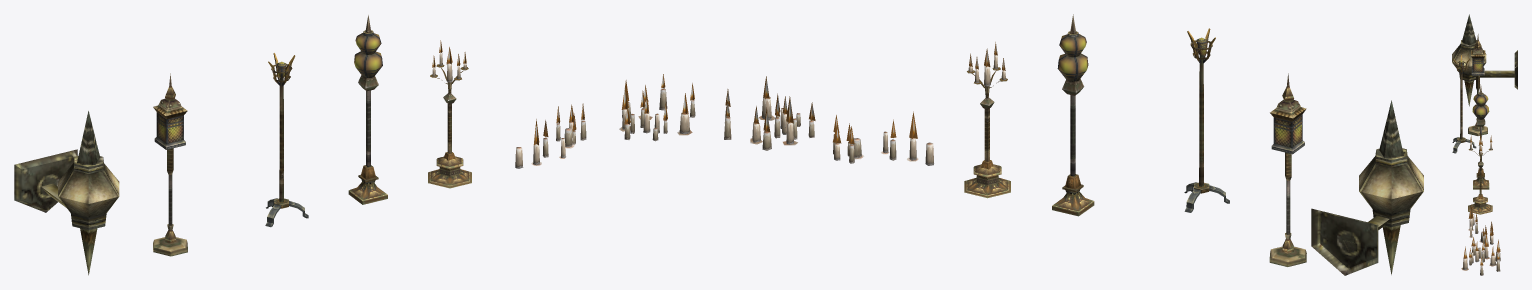
File: d_1009_deco01.FBX
3 views of the same model, side by side, from view 1: azimuth 30°, elevation 25°; view 2: azimuth 150°, elevation 25°; view 3: azimuth 270°, elevation 25° (orthographic). The views are drawn at different scales.
Parts seen in each view (by area): view 1: w_1009_railing52, f_1103_stone18, d_1009_deco10, d_1009_deco09, f_1103_stone17, d_1009_deco07, d_1009_deco08, d_1009_deco07m; view 2: w_1009_railing52, d_1009_deco10, f_1103_stone18, d_1009_deco09, f_1103_stone17, d_1009_deco07, d_1009_deco08, d_1009_deco07m, d_1009_deco08m; view 3: w_1009_railing52, d_1009_deco10, f_1103_stone18, d_1009_deco09, d_1009_deco07, f_1103_stone17, d_1009_deco07m, d_1009_deco08, d_1009_deco08m, Object1225.
Boxes of the visible parts, box(x1,y1,x2,y2) form: w_1009_railing52: box(14, 111, 119, 275); f_1103_stone18: box(153, 73, 187, 256); d_1009_deco10: box(348, 15, 387, 204); d_1009_deco09: box(428, 52, 471, 188); f_1103_stone17: box(265, 53, 308, 227); d_1009_deco07: box(619, 88, 695, 141); d_1009_deco08: box(515, 120, 586, 168); d_1009_deco07m: box(621, 74, 694, 124); w_1009_railing52: box(1311, 100, 1423, 275); d_1009_deco10: box(1052, 14, 1094, 216); f_1103_stone18: box(1269, 73, 1306, 266); d_1009_deco09: box(964, 55, 1010, 198); f_1103_stone17: box(1184, 28, 1229, 212); d_1009_deco07: box(724, 97, 814, 150); d_1009_deco08: box(833, 131, 933, 165); d_1009_deco07m: box(725, 76, 815, 132); d_1009_deco08m: box(833, 111, 917, 144); w_1009_railing52: box(1452, 14, 1517, 106); d_1009_deco10: box(1472, 84, 1489, 189); f_1103_stone18: box(1468, 34, 1487, 135); d_1009_deco09: box(1468, 142, 1492, 214); d_1009_deco07: box(1461, 246, 1500, 275); f_1103_stone17: box(1452, 55, 1476, 153); d_1009_deco07m: box(1463, 233, 1500, 265); d_1009_deco08: box(1468, 214, 1493, 245); d_1009_deco08m: box(1468, 204, 1493, 235); Object1225: box(1470, 134, 1492, 150).
Bounding box in the file's own units: 1978 × 535 × 310.
